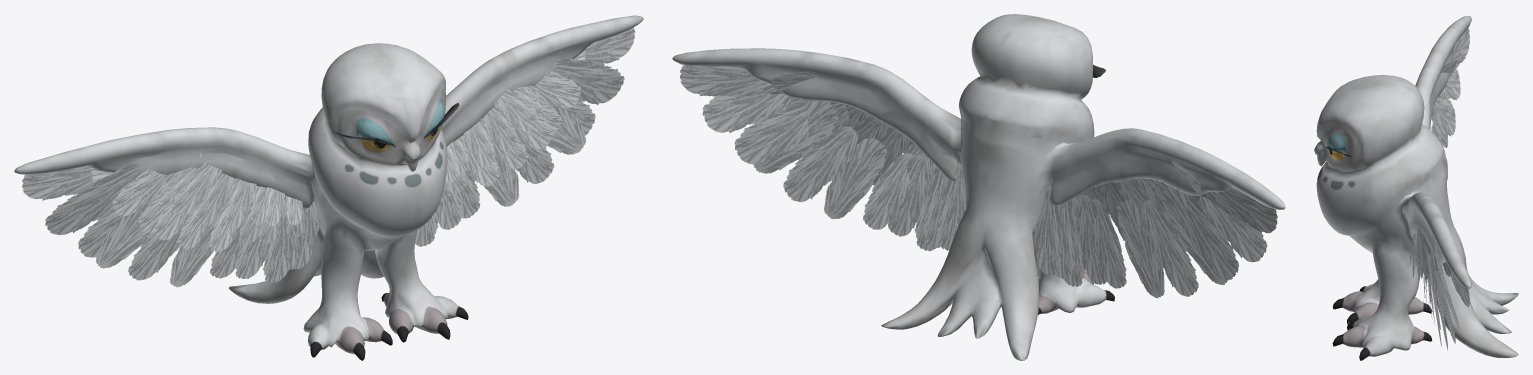
File: Buho_Decimation.fbx
3 views of the same model, side by side, from view 1: azimuth 30°, elevation 25°; view 2: azimuth 150°, elevation 25°; view 3: azimuth 270°, elevation 25° (orthographic). The views are drawn at different scales.
Parts seen in each view (by area): view 1: Buho_Decimation; view 2: Buho_Decimation; view 3: Buho_Decimation.
Boxes of the visible parts, x1=… form: Buho_Decimation: x1=14, y1=15, x2=643, y2=360; Buho_Decimation: x1=672, y1=14, x2=1285, y2=360; Buho_Decimation: x1=1314, y1=16, x2=1518, y2=360.
Bounding box in the file's own units: 231 × 98.53 × 73.8.
